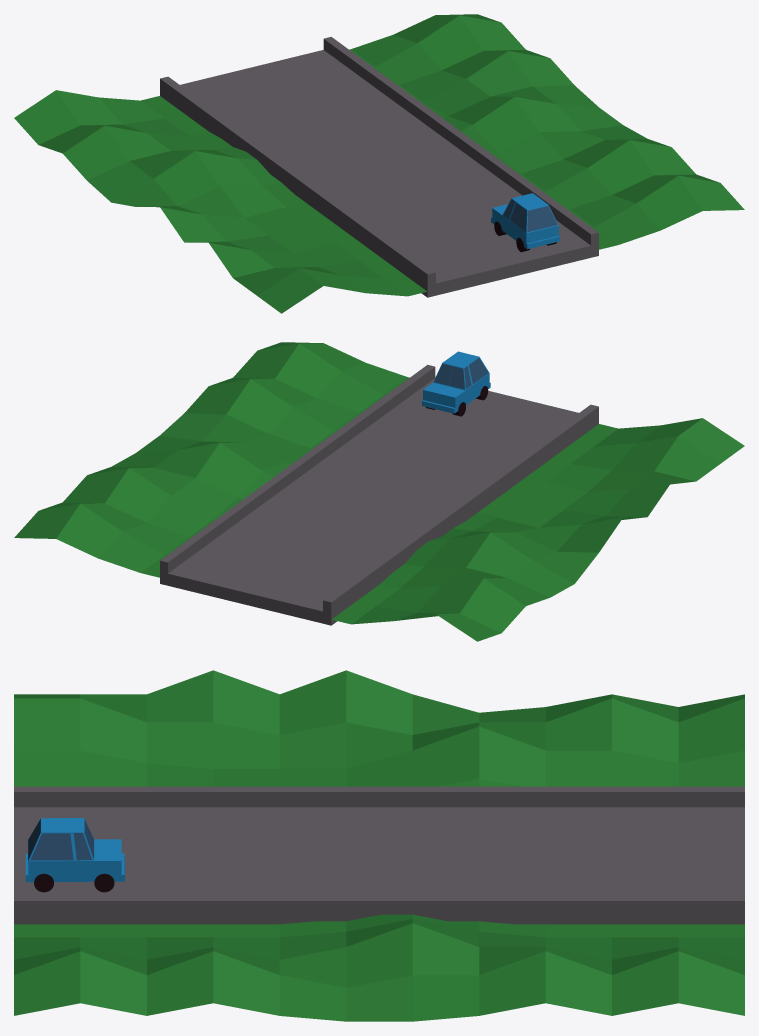
Rendered from car-scene.gltf.
3 views of the same model, one above another, from view 1: azimuth 30°, elevation 25°; view 2: azimuth 150°, elevation 25°; view 3: azimuth 270°, elevation 25° (orthographic). The views are drawn at different scales.
Parts seen in each view (by area): view 1: ground, road, car; view 2: ground, road, car; view 3: ground, road, car.
Part boxes in pixels (<box>): ground: <box>14,14,744,313</box>; road: <box>160,36,598,297</box>; car: <box>491,193,559,249</box>; ground: <box>14,342,744,641</box>; road: <box>160,364,598,625</box>; car: <box>422,351,490,413</box>; ground: <box>14,670,744,1021</box>; road: <box>14,786,744,924</box>; car: <box>25,818,124,882</box>.
Size of the model in its own units: 40 by 4.44 by 40.
1 material, 1 textured.
